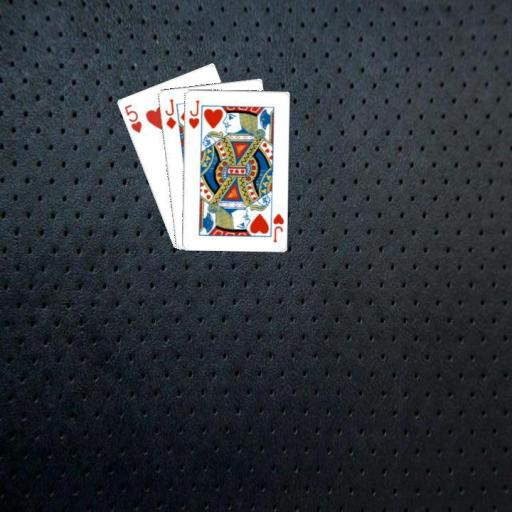5H: (121, 101, 143, 134)
JD: (162, 96, 178, 131)
JH: (185, 97, 200, 130), (270, 211, 285, 243)
